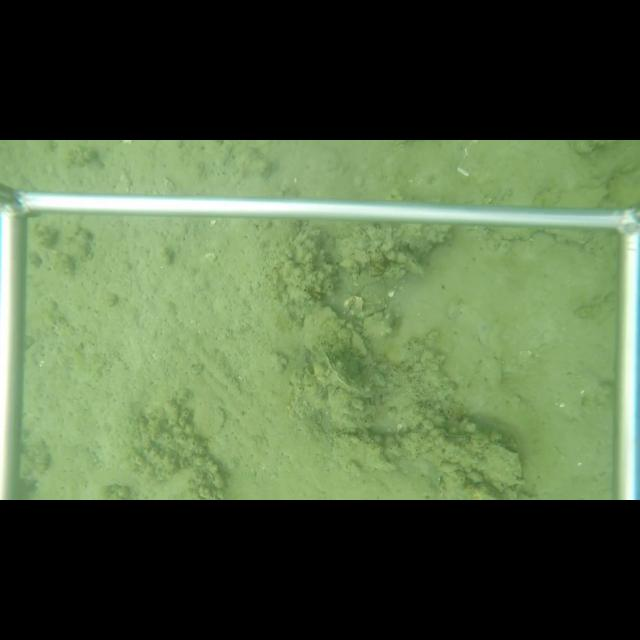Oyster-Closed: (331, 434, 413, 474), (482, 440, 528, 488), (316, 348, 363, 392), (192, 400, 228, 437), (438, 430, 475, 442), (313, 385, 327, 399), (329, 384, 342, 399)
